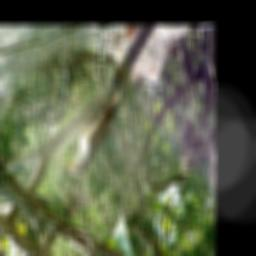Cuckoo: (66, 72, 133, 178)
